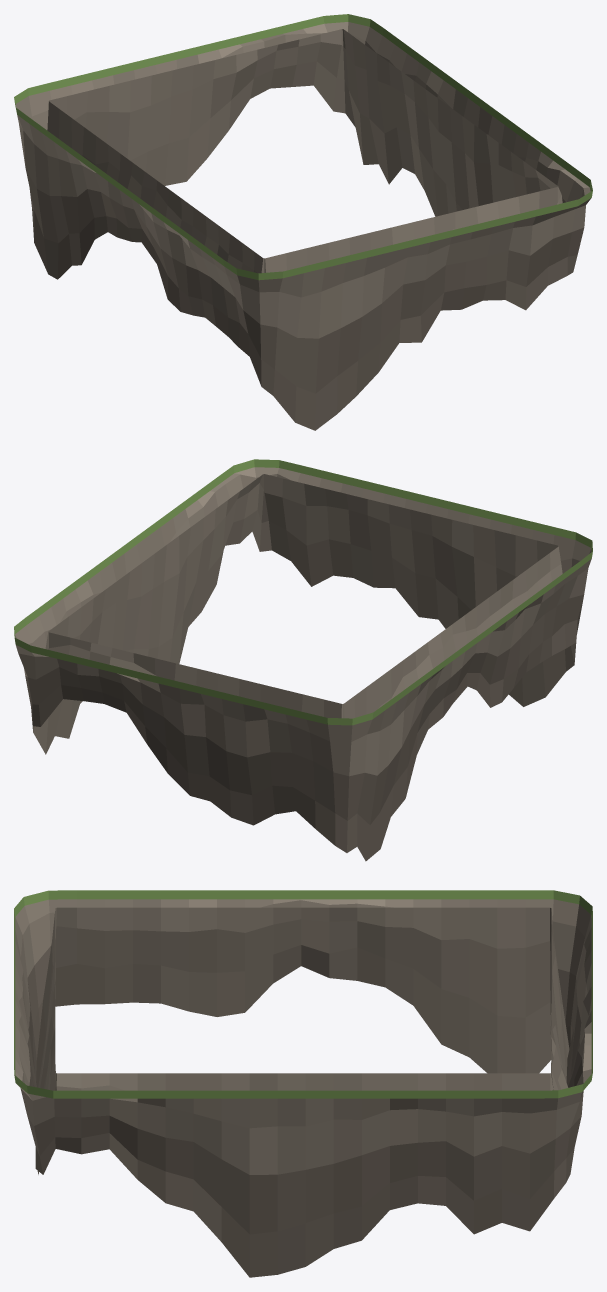
The model's file is cliff.glb.
The picture shows the model from 3 angles, top to bottom: view 1: azimuth 30°, elevation 25°; view 2: azimuth 150°, elevation 25°; view 3: azimuth 270°, elevation 25°; orthographic projection. The views are drawn at different scales.
Parts seen in each view (by area): view 1: cliff; view 2: cliff; view 3: cliff.
Boxes of the visible parts, <box> form: cliff: <box>14,14,592,430</box>; cliff: <box>14,459,592,861</box>; cliff: <box>14,890,592,1277</box>.
Bounding box in the file's own units: 25.44 × 12.06 × 31.04.
